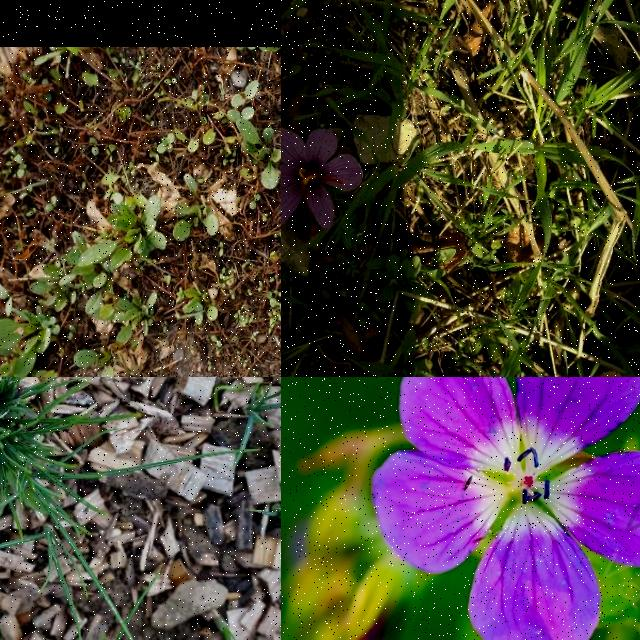flower: (281, 126, 365, 236)
